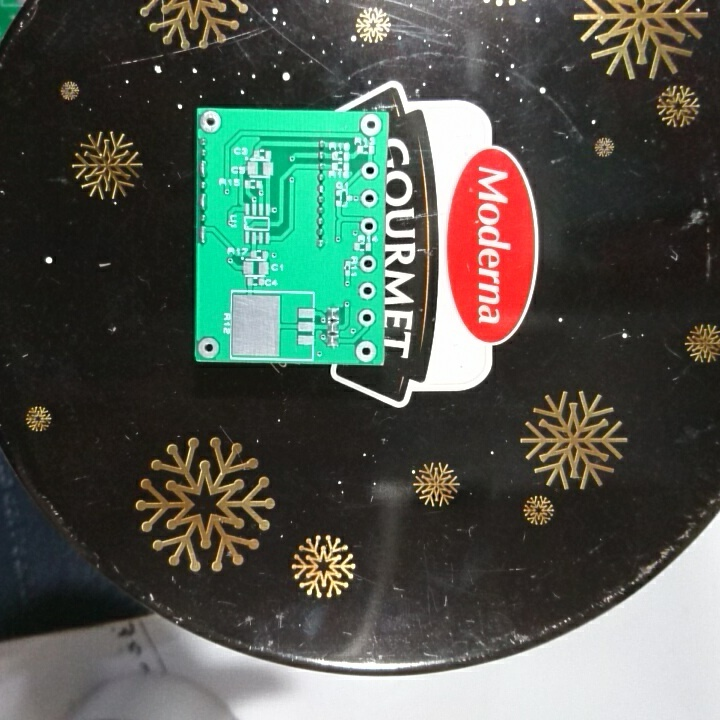F: (198, 108, 224, 136), (357, 112, 383, 138), (196, 335, 221, 359), (354, 338, 377, 363), (357, 186, 380, 209), (357, 215, 379, 236), (359, 160, 382, 180), (357, 280, 378, 301), (358, 252, 378, 273), (357, 308, 377, 328)
P: (198, 157, 210, 181), (197, 222, 208, 247), (198, 190, 209, 212)
